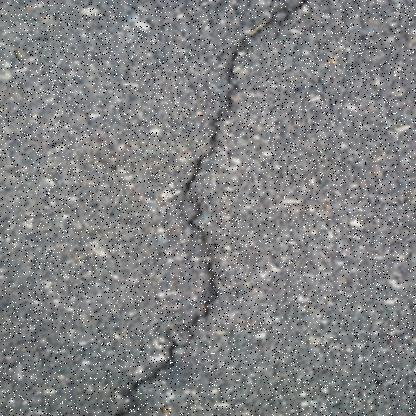Cracks: (101, 0, 330, 415)
